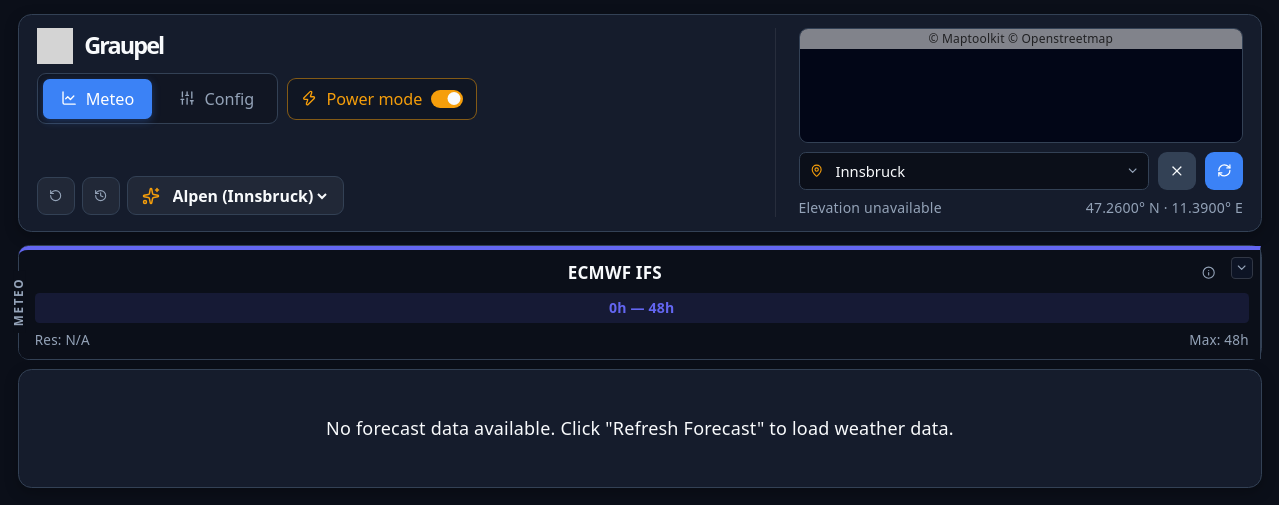
Test: Historic data viewer (spec §10, #144) › shows a note when nothing is archived near the location
Click the button with test id "history-button". click: {"x": 101, "y": 196}
box: top-left (82, 176), bottom-right (120, 215)
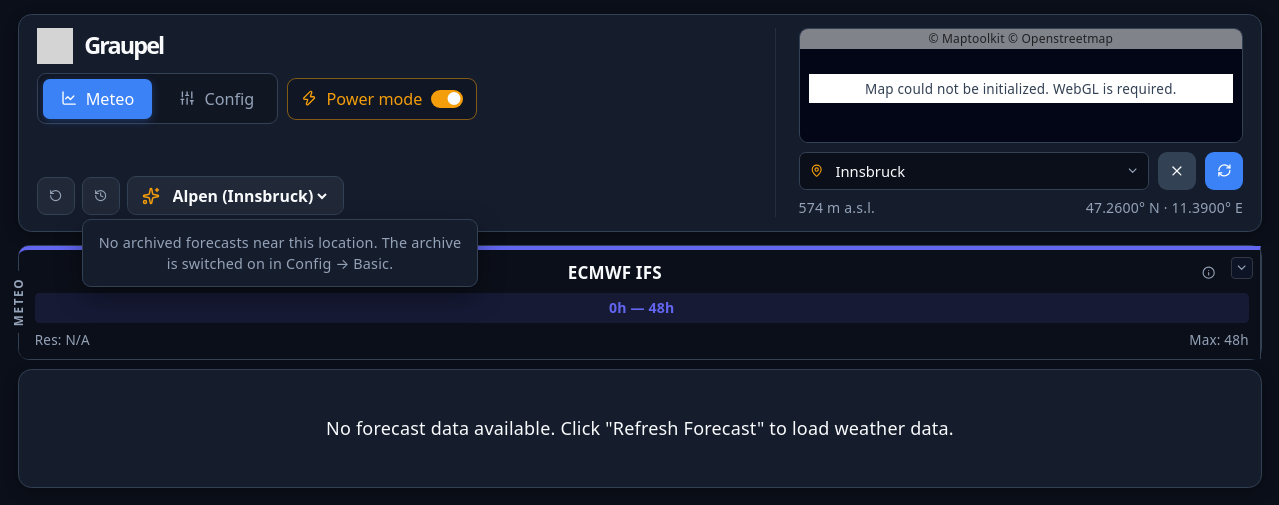
Check: the text with test id "history-empty" shows "Config → Basic", box top-left (99, 232), bottom-right (461, 273)
